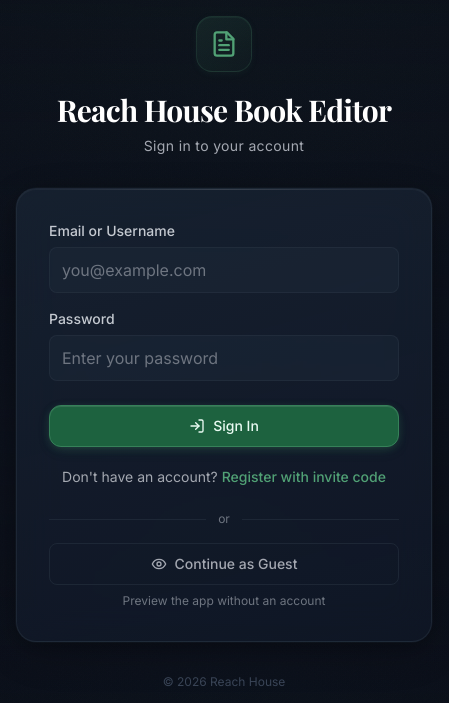
Scenario: LoginPage › shows loading state during login
Type "testuser" into the field labelled "Email or Username".
click(224, 270); type("testuser")  # box 49,247 -> 399,293
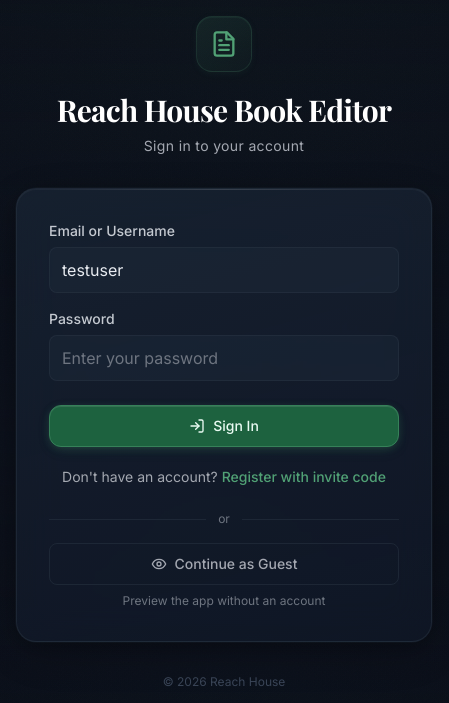
Type "password123" into the password field labelled "Password".
click(224, 358); type("password123")  # box 49,335 -> 399,381
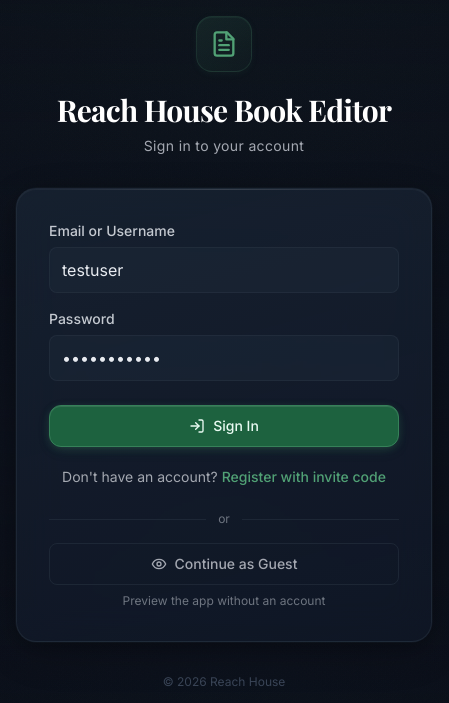
Click the button "Sign In".
click(224, 426)  # box 49,405 -> 399,447
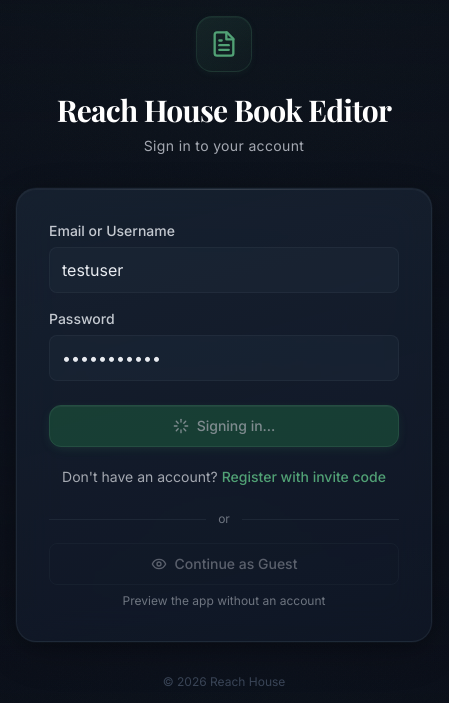
expect the button "Signing in..." is shown: met, box 49,405 -> 399,447
